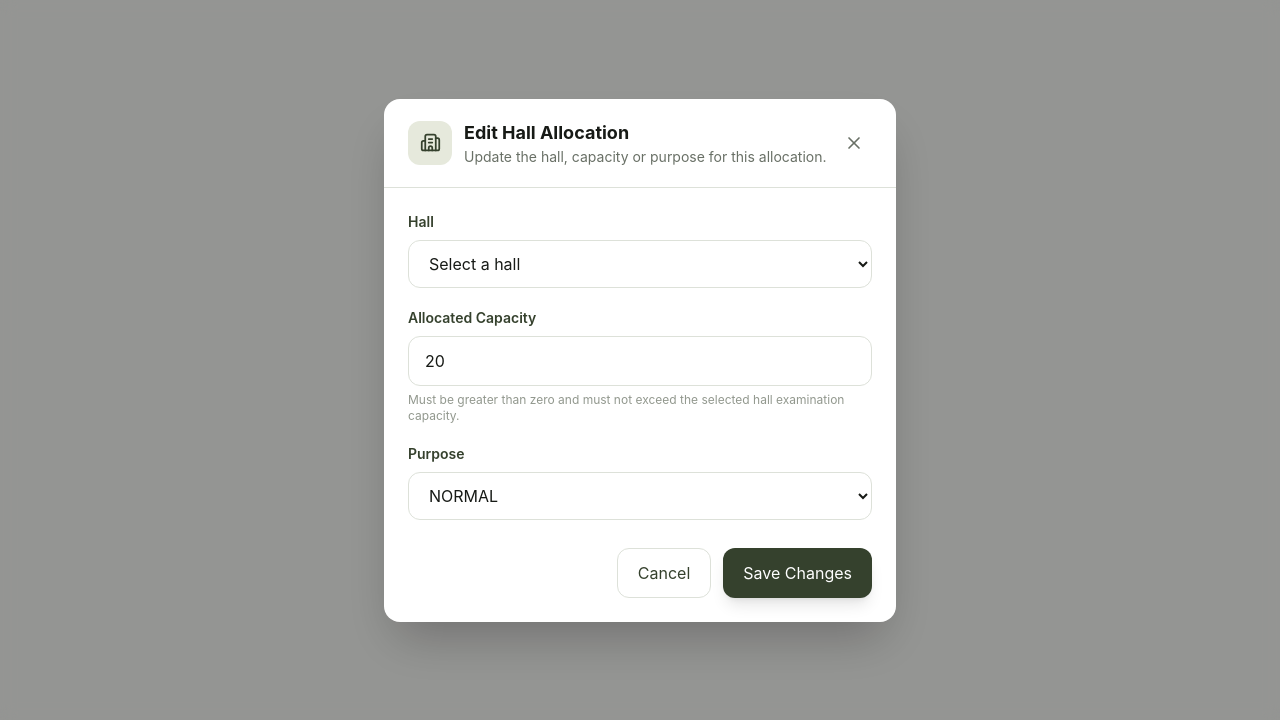
Phase 4 — Forms & validation › FRM-01: submitting without a hall shows an inline error
Click the button "Save Changes" at (798, 572), box [723,548,872,598]
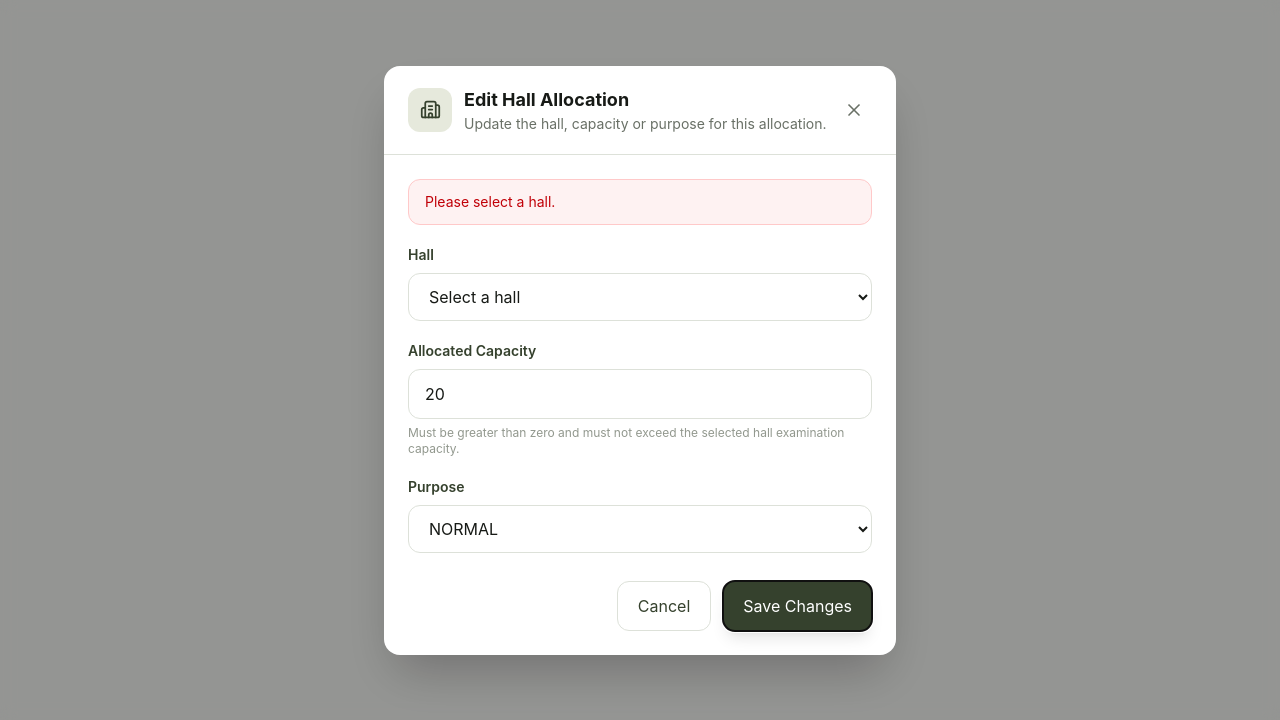
Check: the text "Please select a hall." is shown, box [408,178,872,224]
